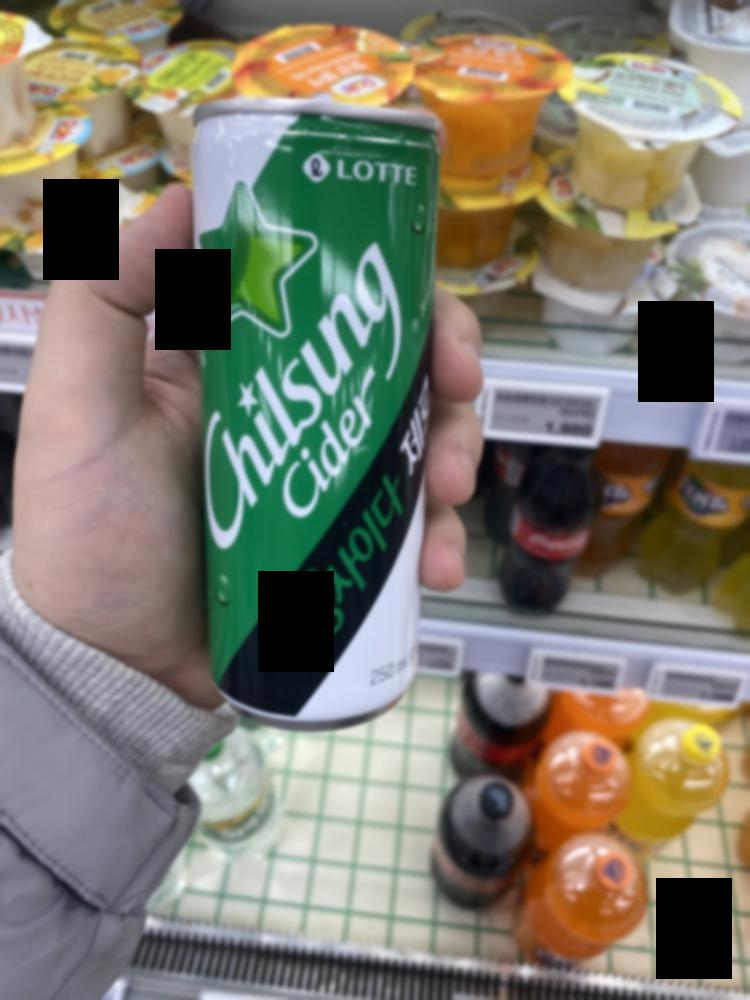chilsungcider_zero: (173, 88, 435, 751)
